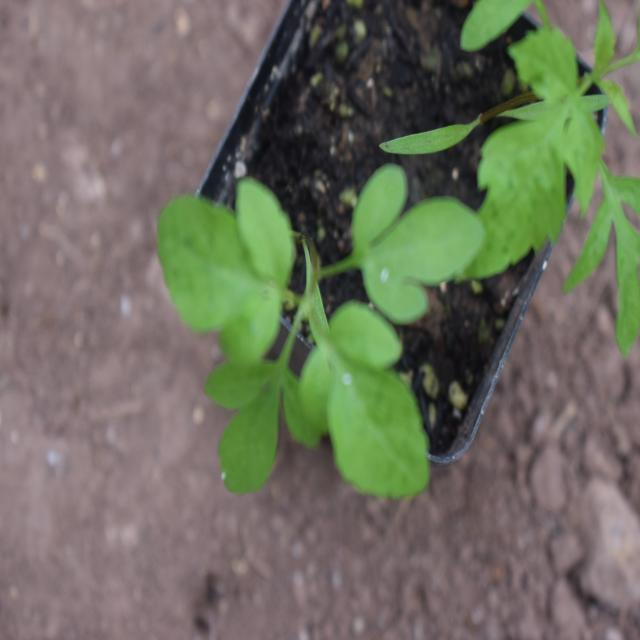Bidens pilosa: (138, 158, 478, 508)
